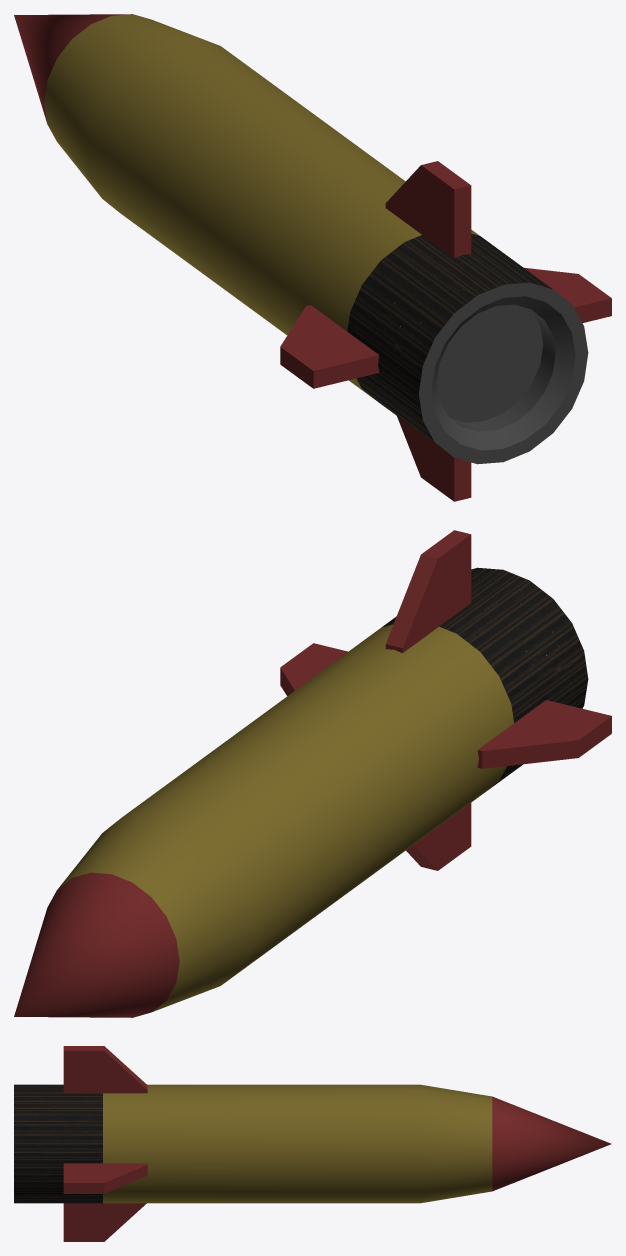
Rendered from Missile.fbx.
3 views of the same model, one above another, from view 1: azimuth 30°, elevation 25°; view 2: azimuth 150°, elevation 25°; view 3: azimuth 270°, elevation 25° (orthographic). The views are drawn at different scales.
Visible parts, largest first — view 1: pCube6; view 2: pCube6; view 3: pCube6.
Boxes of the visible parts, bbox=[...] form: pCube6: bbox=[14, 14, 611, 501]; pCube6: bbox=[14, 530, 611, 1017]; pCube6: bbox=[14, 1046, 611, 1241].
Bounding box in the file's own units: 1.76 × 1.76 × 5.
3 materials, 1 textured.
